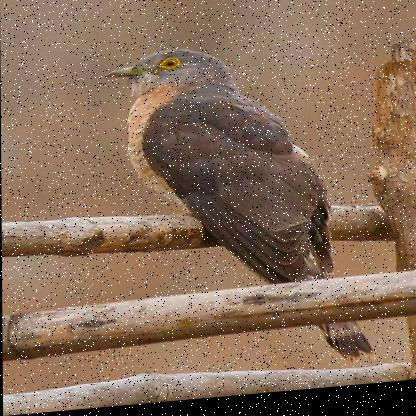Burung: (102, 39, 370, 384)
